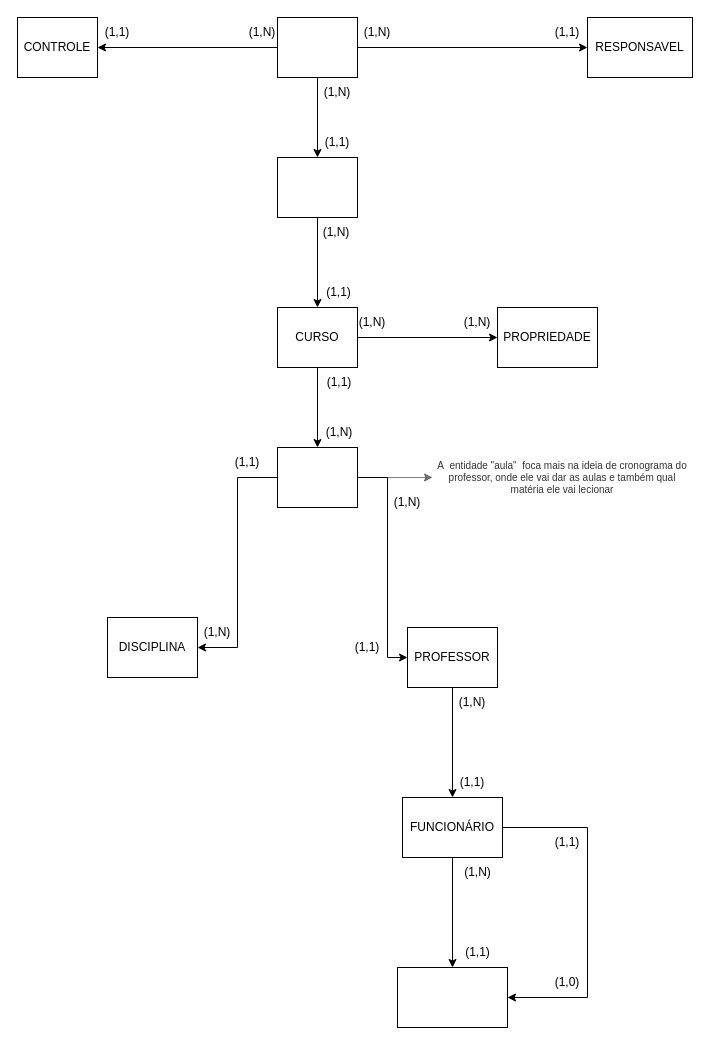
Image size: 710x1045. Some labels were removed from this diagram. The shapes that lost their labels are listed below. From the top down, each one's centre as x and y in pixels, then its label:
At point (317, 47): "ALUNO".
At point (317, 187): "TURMA".
At point (317, 477): "SALA DE AULAS".
At point (452, 997): "DEPARTAMENTO".
